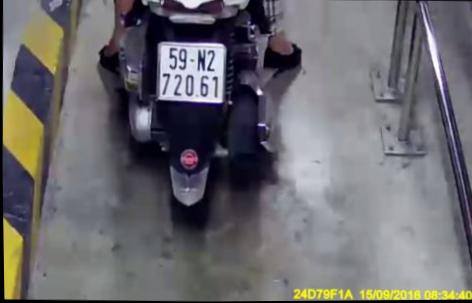LP: (155, 39, 227, 104)
